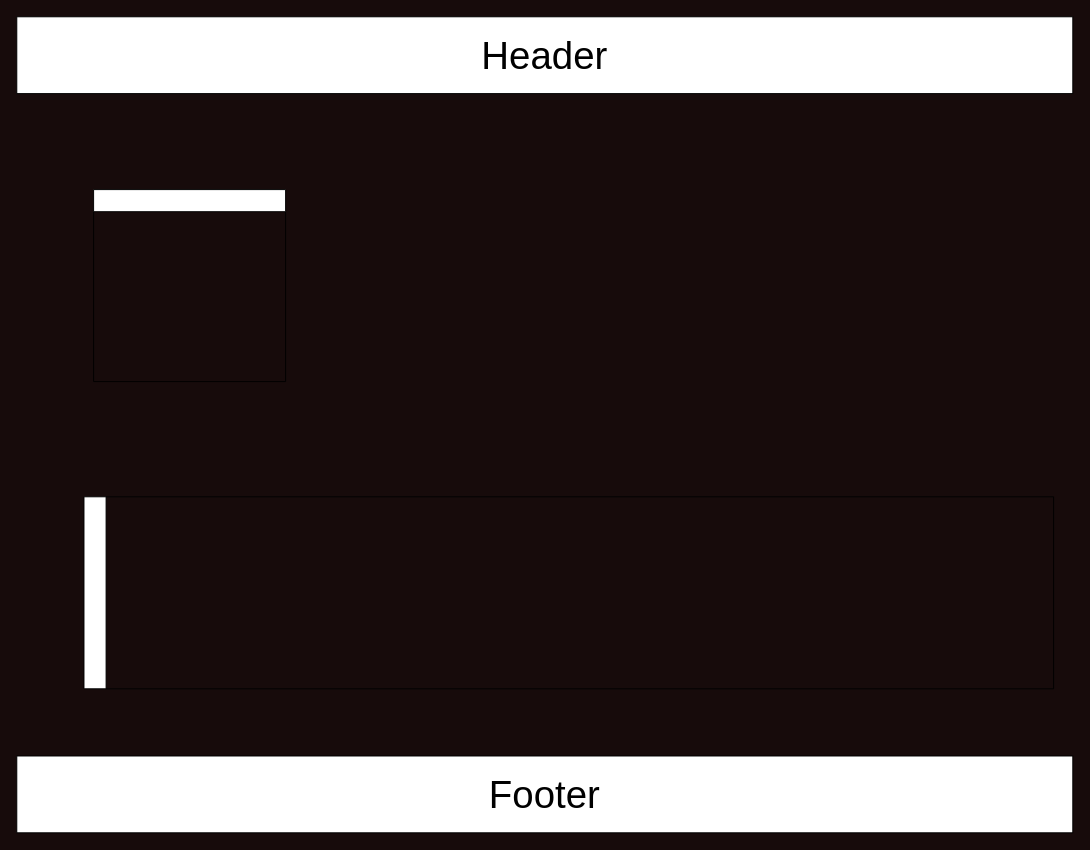
The diagram is 1090 pixels wide and 850 high, and some of its shapes have lost their labels. Each missing label, with the centre of its shape:
"Vertical Container" goes at (189,285).
"Works" goes at (568,592).
